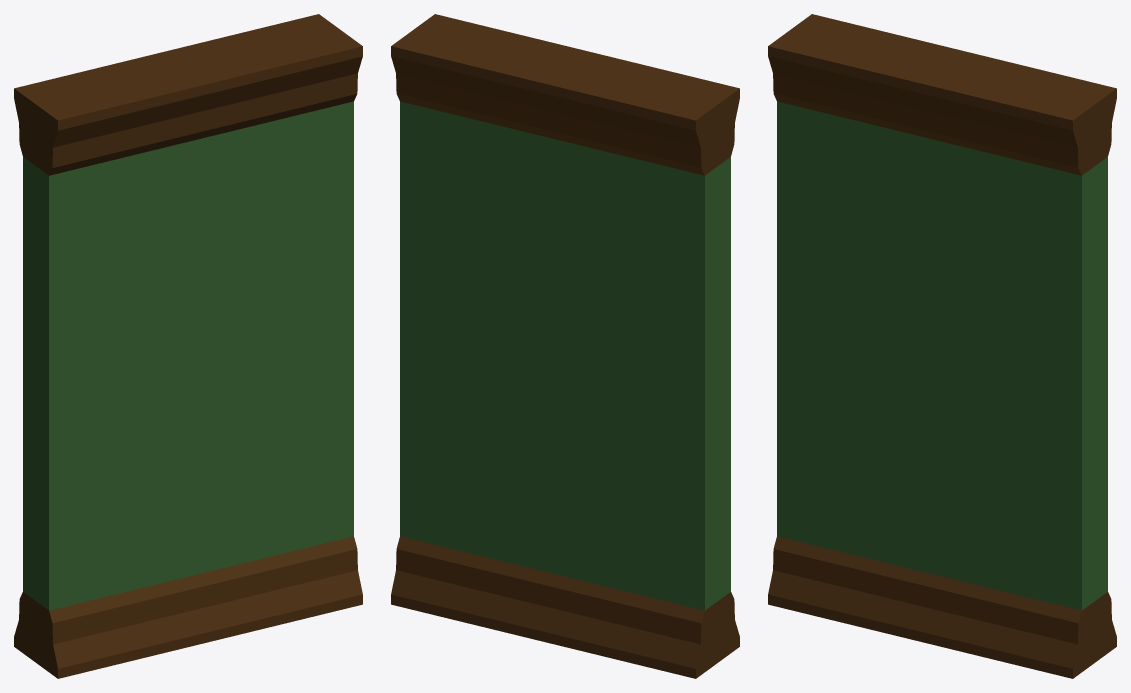
Rendered from baseWall_GEO.fbx.
The picture shows the model from 3 angles, left to right: view 1: azimuth 30°, elevation 25°; view 2: azimuth 150°, elevation 25°; view 3: azimuth 330°, elevation 25°; orthographic projection.
Parts seen in each view (by area): view 1: wallBase; view 2: wallBase; view 3: wallBase.
Part boxes in pixels (x1,y1,x2,y2): wallBase: [14, 14, 362, 678]; wallBase: [391, 14, 739, 678]; wallBase: [768, 14, 1116, 678].
Size of the model in its own units: 200 by 350 by 50.
